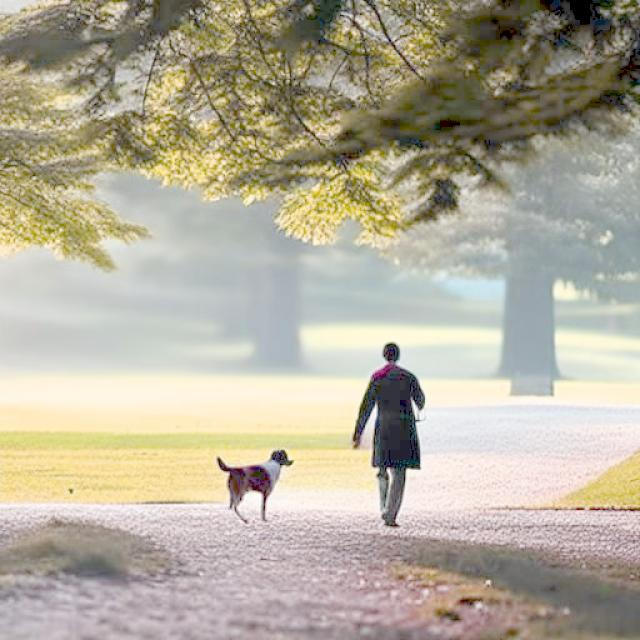Unleashed_Dog: (215, 424, 420, 524)
